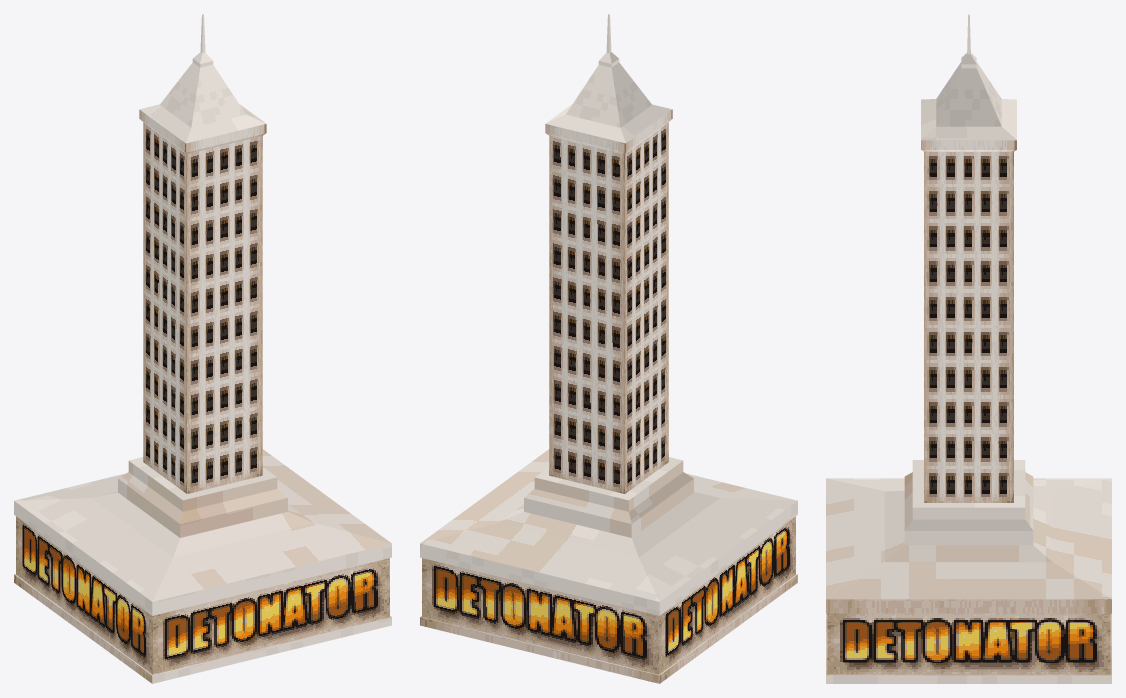
File: ps2_save-icons_detonator.glb
The picture shows the model from 3 angles, left to right: view 1: azimuth 30°, elevation 25°; view 2: azimuth 150°, elevation 25°; view 3: azimuth 270°, elevation 25°; orthographic projection. The views are drawn at different scales.
Visible parts, largest first — view 1: buil.ico; view 2: buil.ico; view 3: buil.ico.
Part boxes in pixels (x1,y1,x2,y2): buil.ico: (14,14,391,683); buil.ico: (420,14,797,683); buil.ico: (826,14,1111,683).
Bounding box in the file's own units: 2.13 × 5 × 2.13.
Materials: 1 (1 with a texture image).
